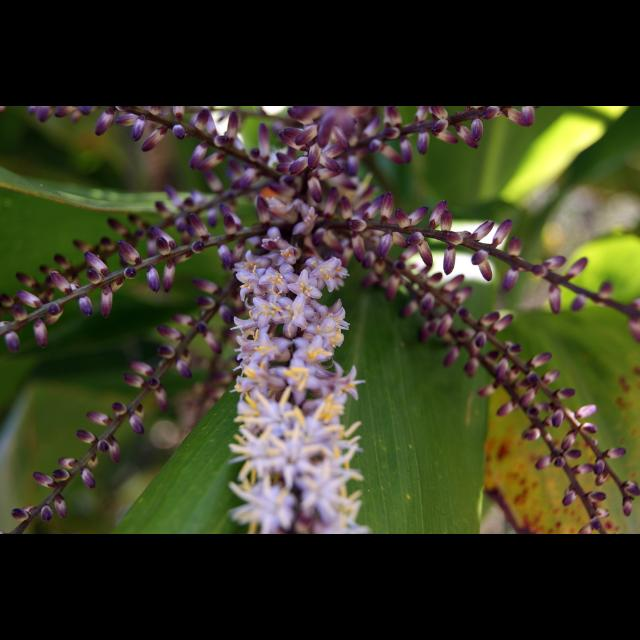Flower: (7, 106, 639, 534)
